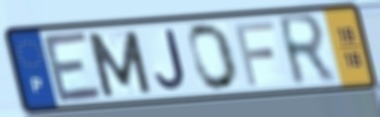E: (39, 29, 106, 106)
F: (231, 18, 277, 88)
J: (153, 27, 189, 92)
M: (83, 28, 155, 99)
O: (187, 21, 240, 93)
R: (274, 11, 340, 91)
